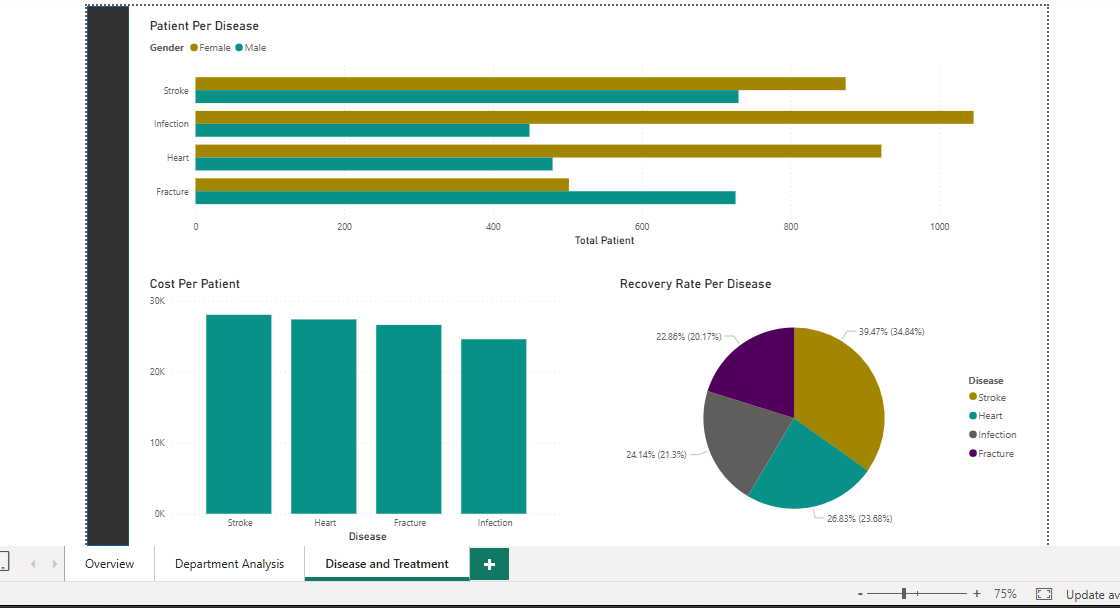

The page's visual inventory and layout, read from the dashboard file:
{"tool":"powerbi","page":{"name":"Disease and Treatment","canvas":[1280,720],"ordinal":2},"visuals":[{"type":"shape","box":[0,0,56.2,720],"z":0},{"type":"clusteredBarChart","title":"Patient Per Disease","fields":{"Category":["Admission.Disease"],"Y":["Measure.Total Patient"],"Series":["Patient.Gender"]},"box":[78.8,16.2,1175,310],"z":1000},{"type":"columnChart","title":"Cost Per Patient","fields":{"Category":["Admission.Disease"],"Y":["Measure.Cost Per Patient"]},"box":[78.8,360,561.2,360],"z":2000},{"type":"pieChart","title":"Recovery Rate Per Disease","fields":{"Category":["Admission.Disease"],"Y":["Measure.Recovery Rate"]},"box":[705,360,548.8,360],"z":3000}]}

Visuals, with their boxes on the page's 1280x720 design canvas (x1, y1, x2, y2). These are canvas units, not pixel positions in the 1120x608 screenshot, which may show the page scaled, cropped or inside an application window:
shape: [0, 0, 56, 720]
"Patient Per Disease" clusteredBarChart: [79, 16, 1254, 326]
"Cost Per Patient" columnChart: [79, 360, 640, 720]
"Recovery Rate Per Disease" pieChart: [705, 360, 1254, 720]
